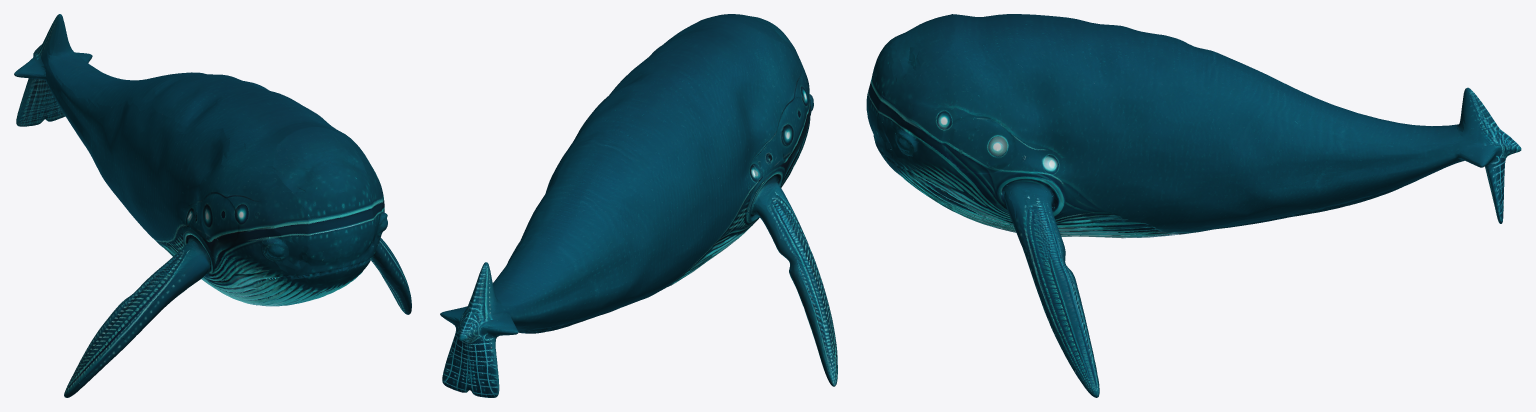
File: epic_four_eyed_whale.glb
3 views of the same model, side by side, from view 1: azimuth 30°, elevation 25°; view 2: azimuth 150°, elevation 25°; view 3: azimuth 270°, elevation 25° (orthographic). The views are drawn at different scales.
Size of the model in its own units: 1.21 by 0.9282 by 1.9.
Materials: 1 (1 with a texture image).
